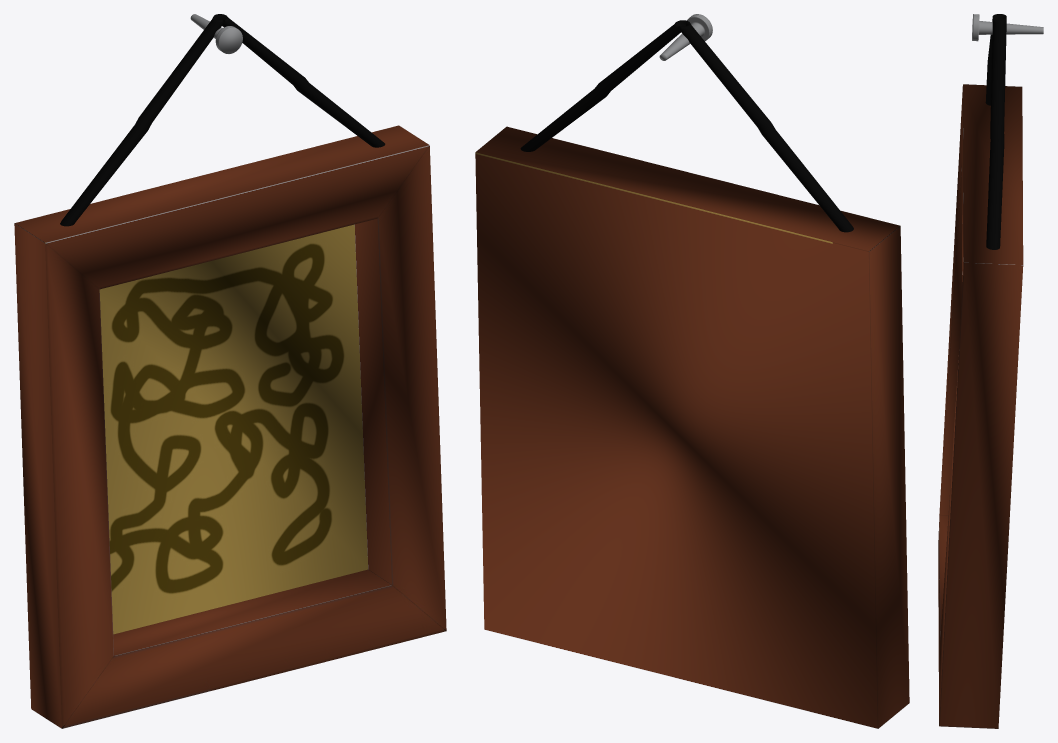
The model's file is CuadroGarabatoRocko.obj.
The picture shows the model from 3 angles, left to right: view 1: azimuth 30°, elevation 25°; view 2: azimuth 150°, elevation 25°; view 3: azimuth 270°, elevation 25°; orthographic projection. The views are drawn at different scales.
Parts seen in each view (by area): view 1: CuadroGarabatoRocko; view 2: CuadroGarabatoRocko; view 3: CuadroGarabatoRocko.
Part boxes in pixels (x1,y1,x2,y2): CuadroGarabatoRocko: [14, 14, 446, 728]; CuadroGarabatoRocko: [475, 14, 909, 728]; CuadroGarabatoRocko: [938, 14, 1043, 728].
Bounding box in the file's own units: 0.5355 × 0.8481 × 0.1301.
